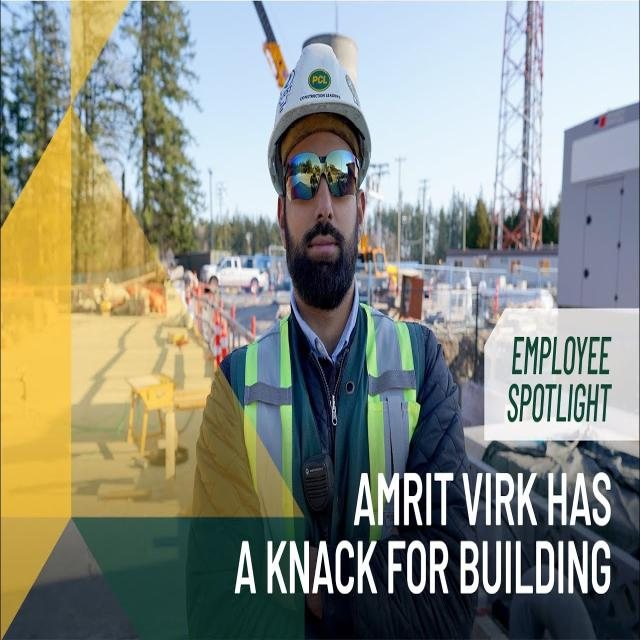goggles: (276, 146, 365, 208)
helmet: (259, 36, 373, 154)
vest: (232, 288, 440, 640)
